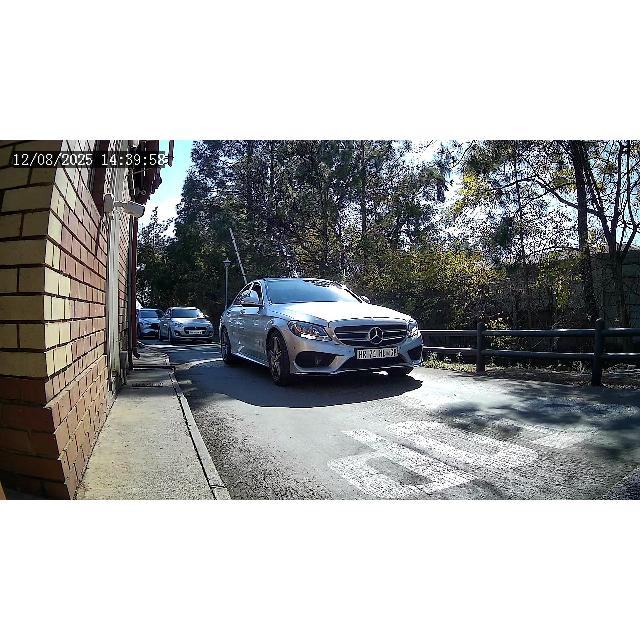car: (218, 278, 424, 387), (158, 307, 214, 345)
plate: (354, 347, 398, 359), (190, 330, 202, 336)
